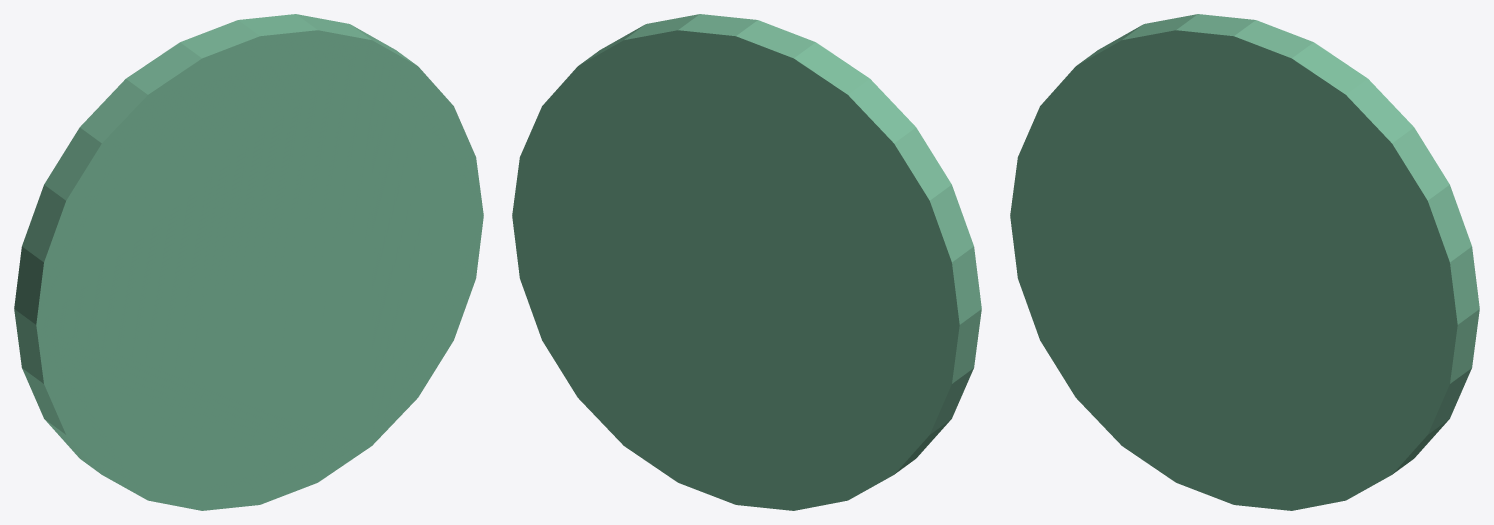
Rendered from slab_pipes_dwv__sewer-city_gravity+city_lift+city_lift_duplex_and_commercial_lot-no.glb.
The picture shows the model from 3 angles, left to right: view 1: azimuth 30°, elevation 25°; view 2: azimuth 150°, elevation 25°; view 3: azimuth 330°, elevation 25°; orthographic projection.
Visible parts, largest first — view 1: plug_city_main_commercial_tap; view 2: plug_city_main_commercial_tap; view 3: plug_city_main_commercial_tap.
Part boxes in pixels (left/top/right/bottom): plug_city_main_commercial_tap: left=14, top=14, right=483, bottom=510; plug_city_main_commercial_tap: left=512, top=14, right=981, bottom=510; plug_city_main_commercial_tap: left=1010, top=14, right=1479, bottom=510.
Size of the model in its own units: 0.1624 by 0.1625 by 0.0139.
